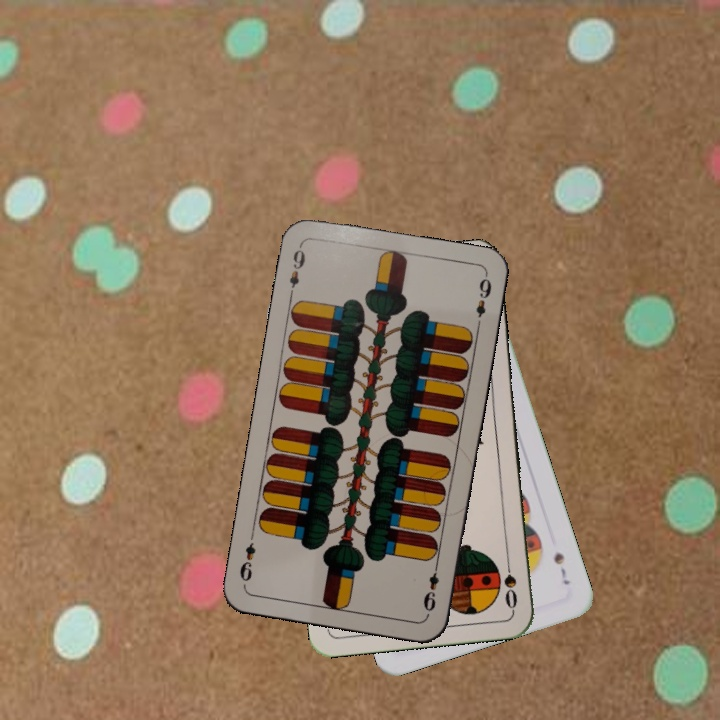E9: (285, 241, 308, 300), (419, 558, 442, 614)
S7: (549, 548, 573, 588)
SO: (500, 553, 520, 612)
